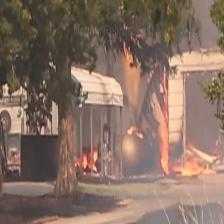fire: (173, 156, 218, 175), (157, 121, 169, 173), (75, 150, 98, 173)
